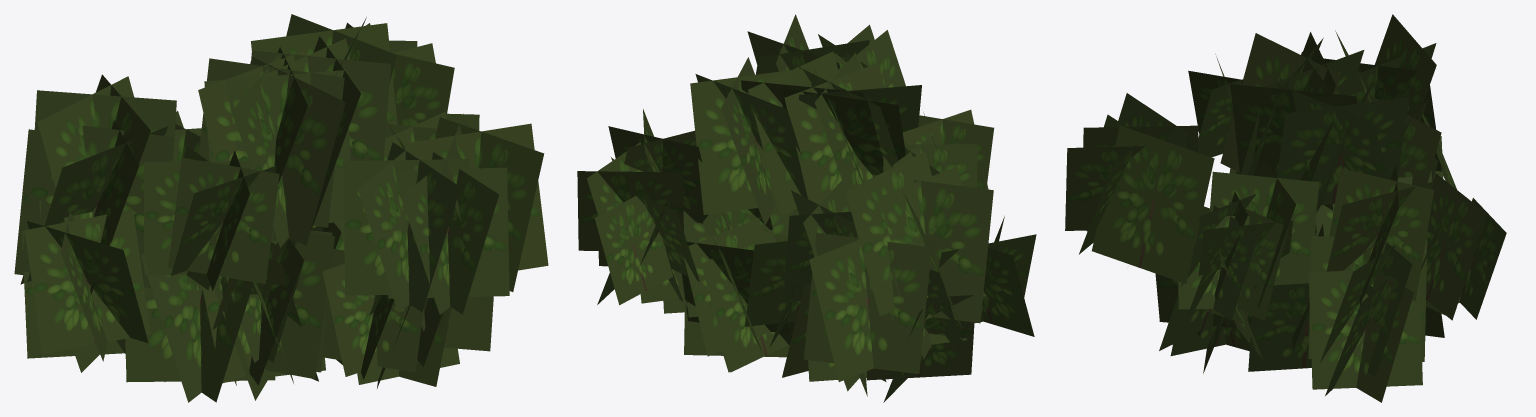
Rendered from SM_Art_Veg_Broadleaf_2_Leaves.gltf.
The picture shows the model from 3 angles, left to right: view 1: azimuth 30°, elevation 25°; view 2: azimuth 150°, elevation 25°; view 3: azimuth 270°, elevation 25°; orthographic projection. The views are drawn at different scales.
Parts seen in each view (by area): view 1: SM_Art_Veg_Broadleaf_2_Leaves; view 2: SM_Art_Veg_Broadleaf_2_Leaves; view 3: SM_Art_Veg_Broadleaf_2_Leaves.
Part boxes in pixels (x1=…): SM_Art_Veg_Broadleaf_2_Leaves: x1=14, y1=14, x2=548, y2=402; SM_Art_Veg_Broadleaf_2_Leaves: x1=577, y1=14, x2=1036, y2=402; SM_Art_Veg_Broadleaf_2_Leaves: x1=1065, y1=14, x2=1506, y2=402.
Bounding box in the file's own units: 8.84 × 5.32 × 8.04.
1 material, 1 textured.
